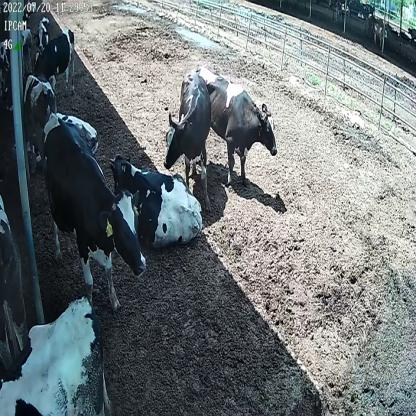cow: (40, 112, 148, 312), (194, 62, 276, 185), (109, 148, 203, 250), (162, 68, 213, 201), (30, 27, 78, 89), (34, 16, 53, 52)
